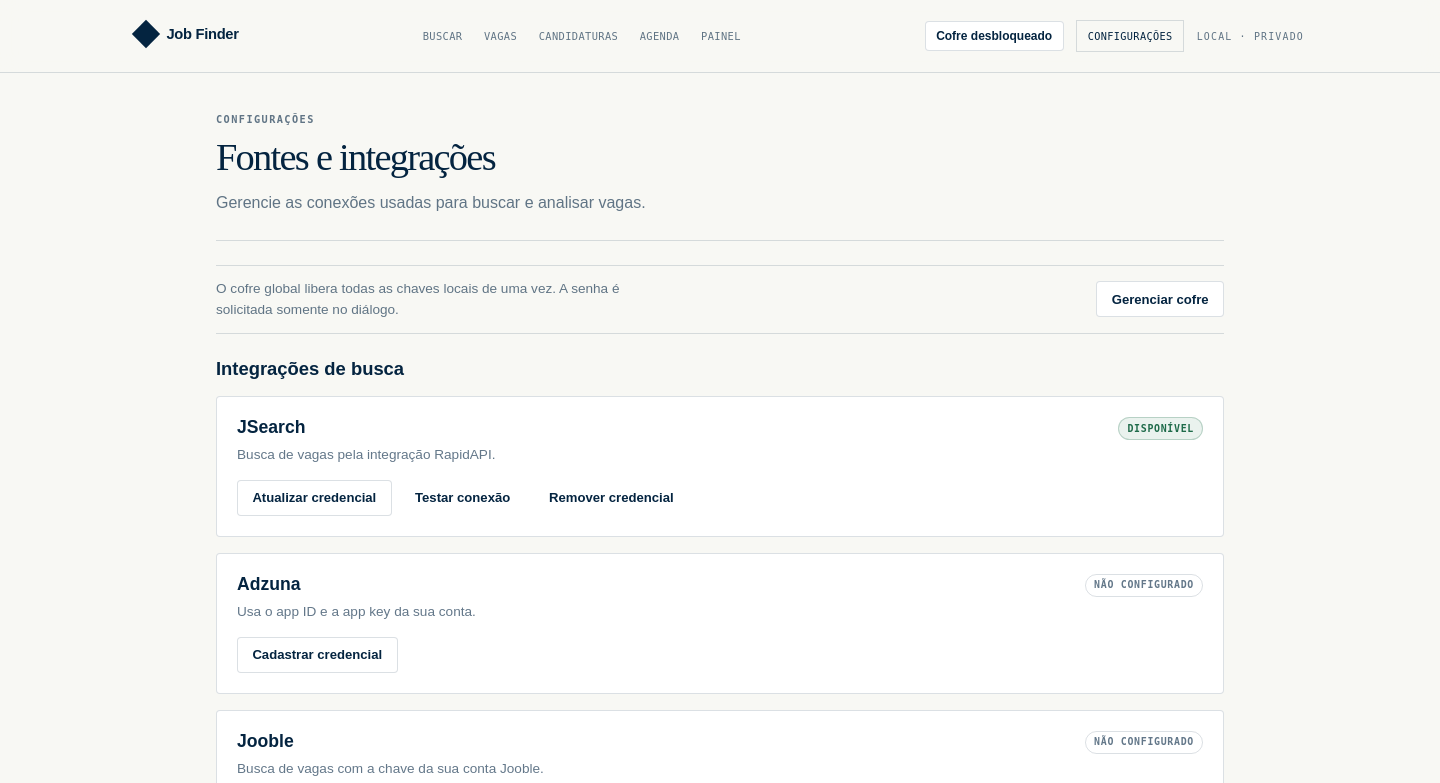
Test case: JF-819 fontes e configurações › separa cada integração das fontes públicas e não mostra senha nem editor por padrão
Expected: the text "Disponível" is shown, 1118,417 -> 1203,440
Expected: the field labelled "API key" is not shown
Step 1. Click the button "Atualizar credencial" → (314, 498), box 237,480 -> 392,516
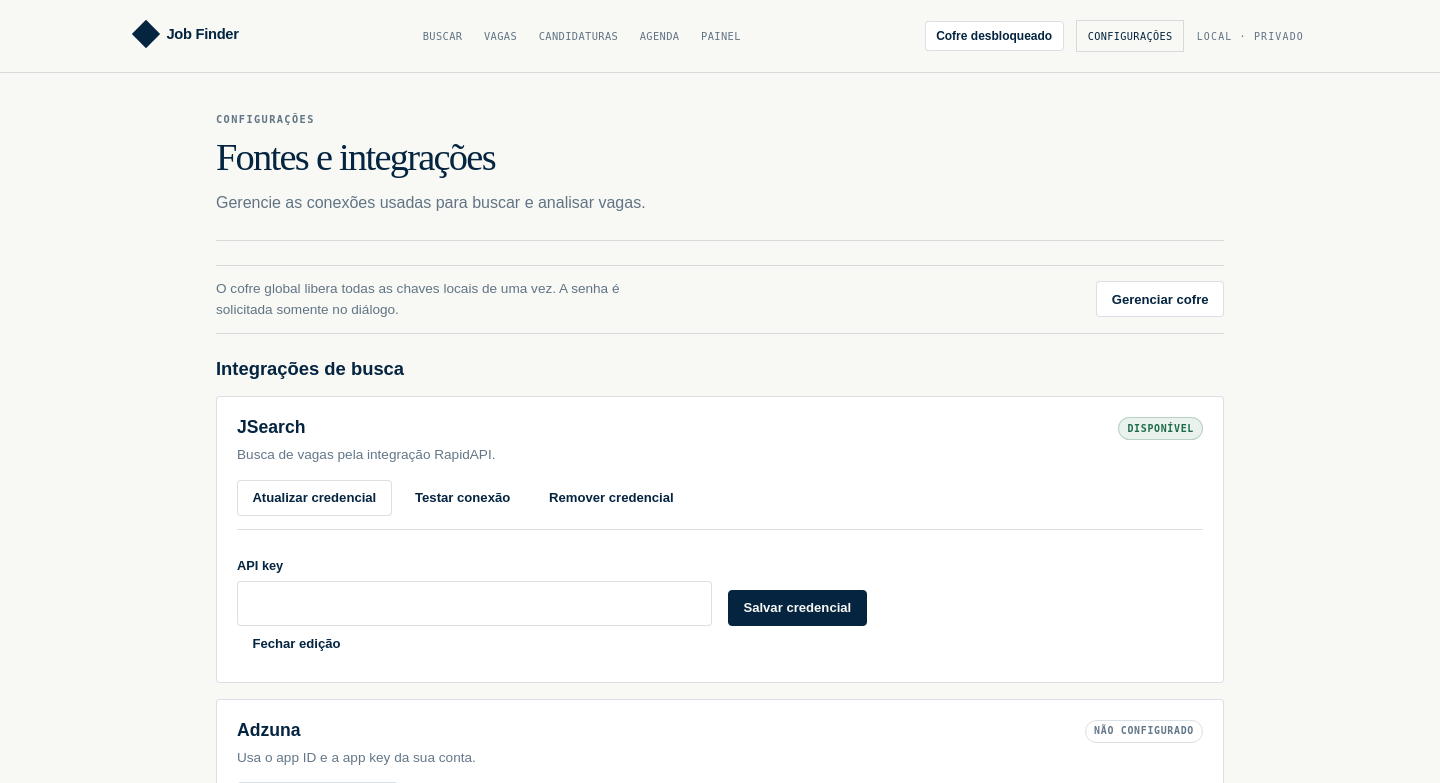
Now the password field labelled "API key" is shown, box 237,580 -> 712,626
